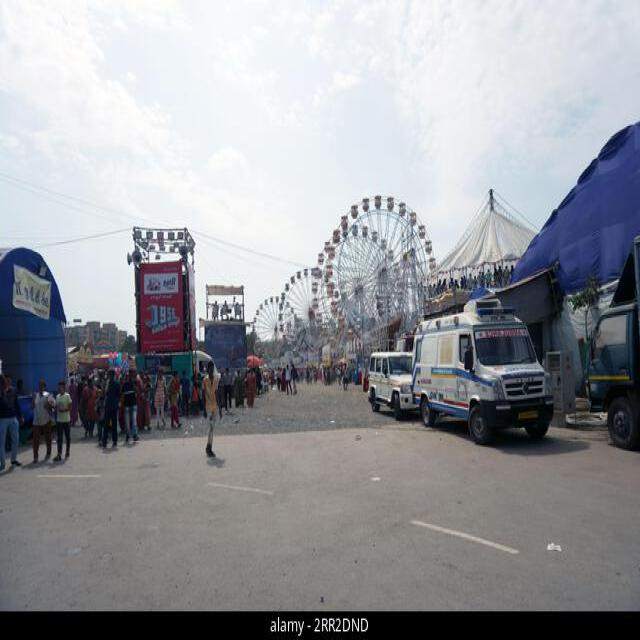car: (368, 353, 416, 414)
emergency: (412, 295, 554, 443)
